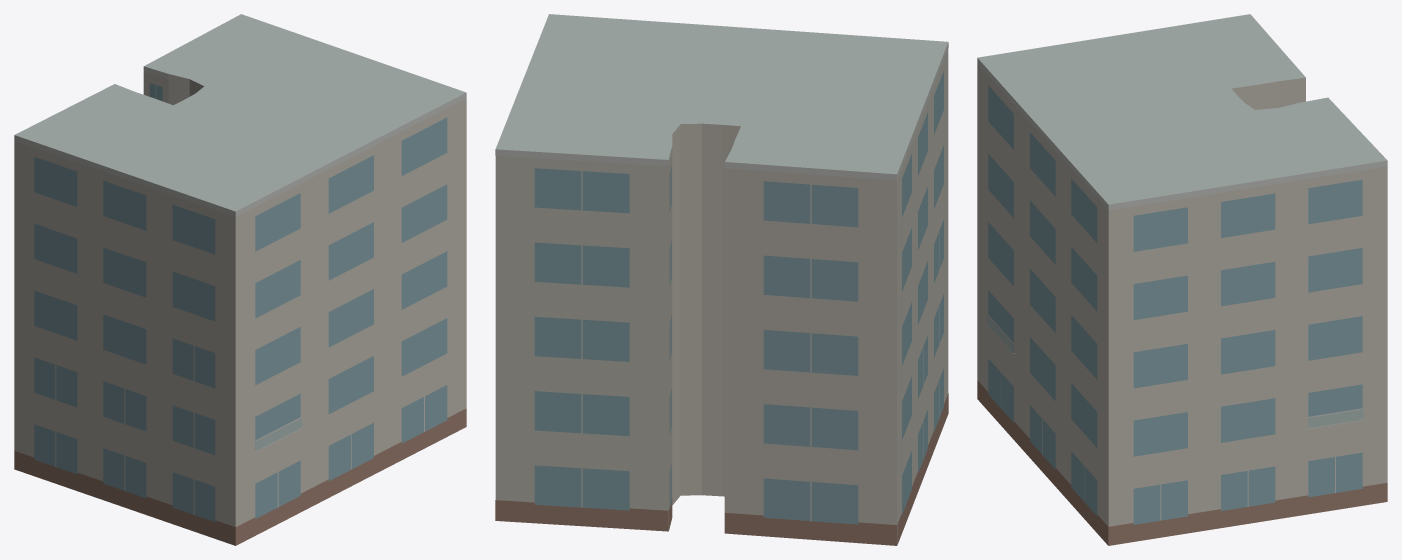
The model's file is survey-upis-32947974.glb.
3 views of the same model, side by side, from view 1: azimuth 30°, elevation 25°; view 2: azimuth 150°, elevation 25°; view 3: azimuth 270°, elevation 25° (orthographic). The views are drawn at different scales.
Visible parts, largest first — view 1: survey-upis-32947974.tmp; view 2: survey-upis-32947974.tmp; view 3: survey-upis-32947974.tmp.
Boxes of the visible parts, x1,y1,x2,y2 form: survey-upis-32947974.tmp: [14, 14, 466, 545]; survey-upis-32947974.tmp: [495, 14, 948, 545]; survey-upis-32947974.tmp: [977, 14, 1387, 545].
Bounding box in the file's own units: 17.19 × 14.34 × 15.64.
